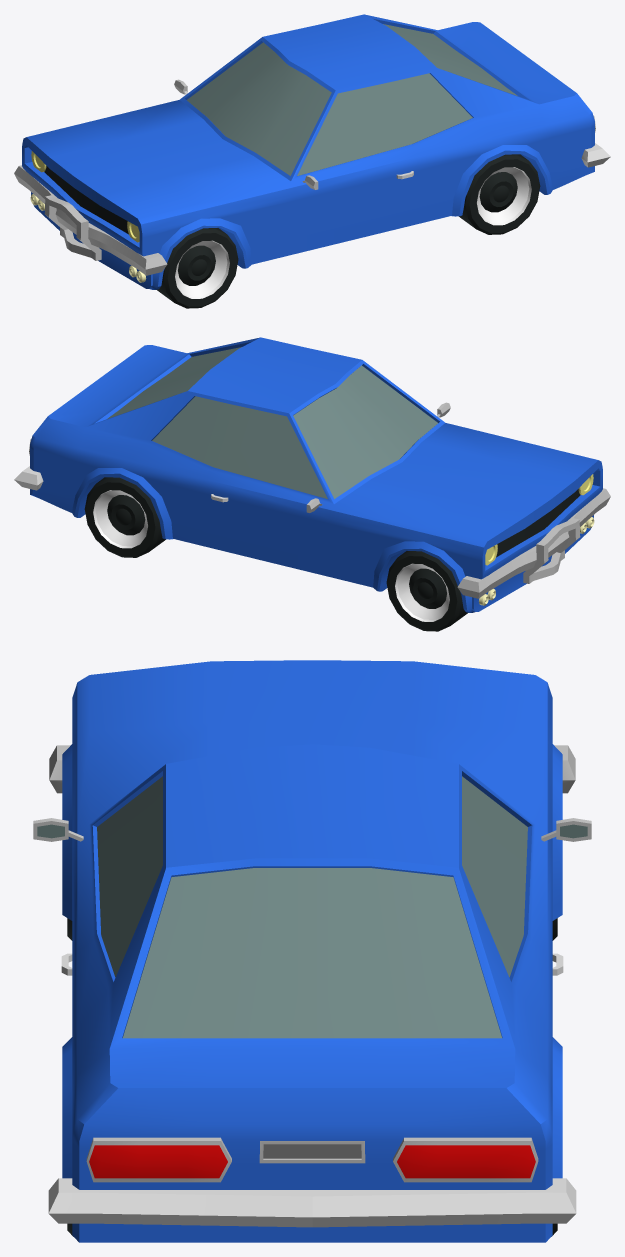
Rendered from car_1.glb.
3 renders of one model, top to bottom at view 1: azimuth 30°, elevation 25°; view 2: azimuth 150°, elevation 25°; view 3: azimuth 270°, elevation 25°, orthographic. The views are drawn at different scales.
Parts seen in each view (by area): view 1: car2, whell.002, whell.003; view 2: car2, whell.001, whell; view 3: car2.
Boxes of the visible parts, left/top/right/bottom form: car2: left=14, top=14, right=610, bottom=289; whell.002: left=459, top=154, right=540, bottom=234; whell.003: left=156, top=228, right=238, bottom=308; car2: left=14, top=337, right=610, bottom=612; whell.001: left=84, top=477, right=165, bottom=557; whell: left=386, top=551, right=468, bottom=631; car2: left=33, top=660, right=591, bottom=1242.
Size of the model in its own units: 3.96 by 1.3 by 1.97.
1 material, 1 textured.
